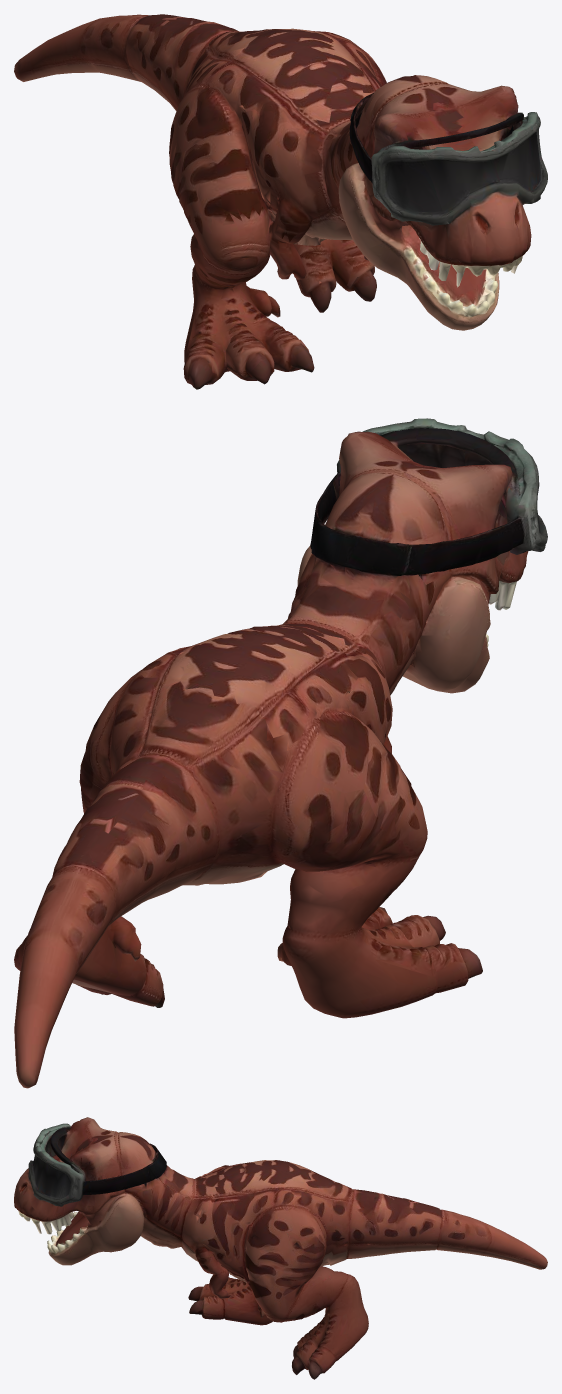
File: dino_tyranno_6.glb
The picture shows the model from 3 angles, top to bottom: view 1: azimuth 30°, elevation 25°; view 2: azimuth 150°, elevation 25°; view 3: azimuth 270°, elevation 25°; orthographic projection. The views are drawn at different scales.
Visible parts, largest first — view 1: mesh_node; view 2: mesh_node; view 3: mesh_node.
Part boxes in pixels (box(x1,y1,x2,y2)): mesh_node: box(14, 14, 547, 389); mesh_node: box(14, 418, 547, 1088); mesh_node: box(14, 1117, 547, 1379).
Bounding box in the file's own units: 0.9791 × 1.1 × 2.51.
1 material, 1 textured.
